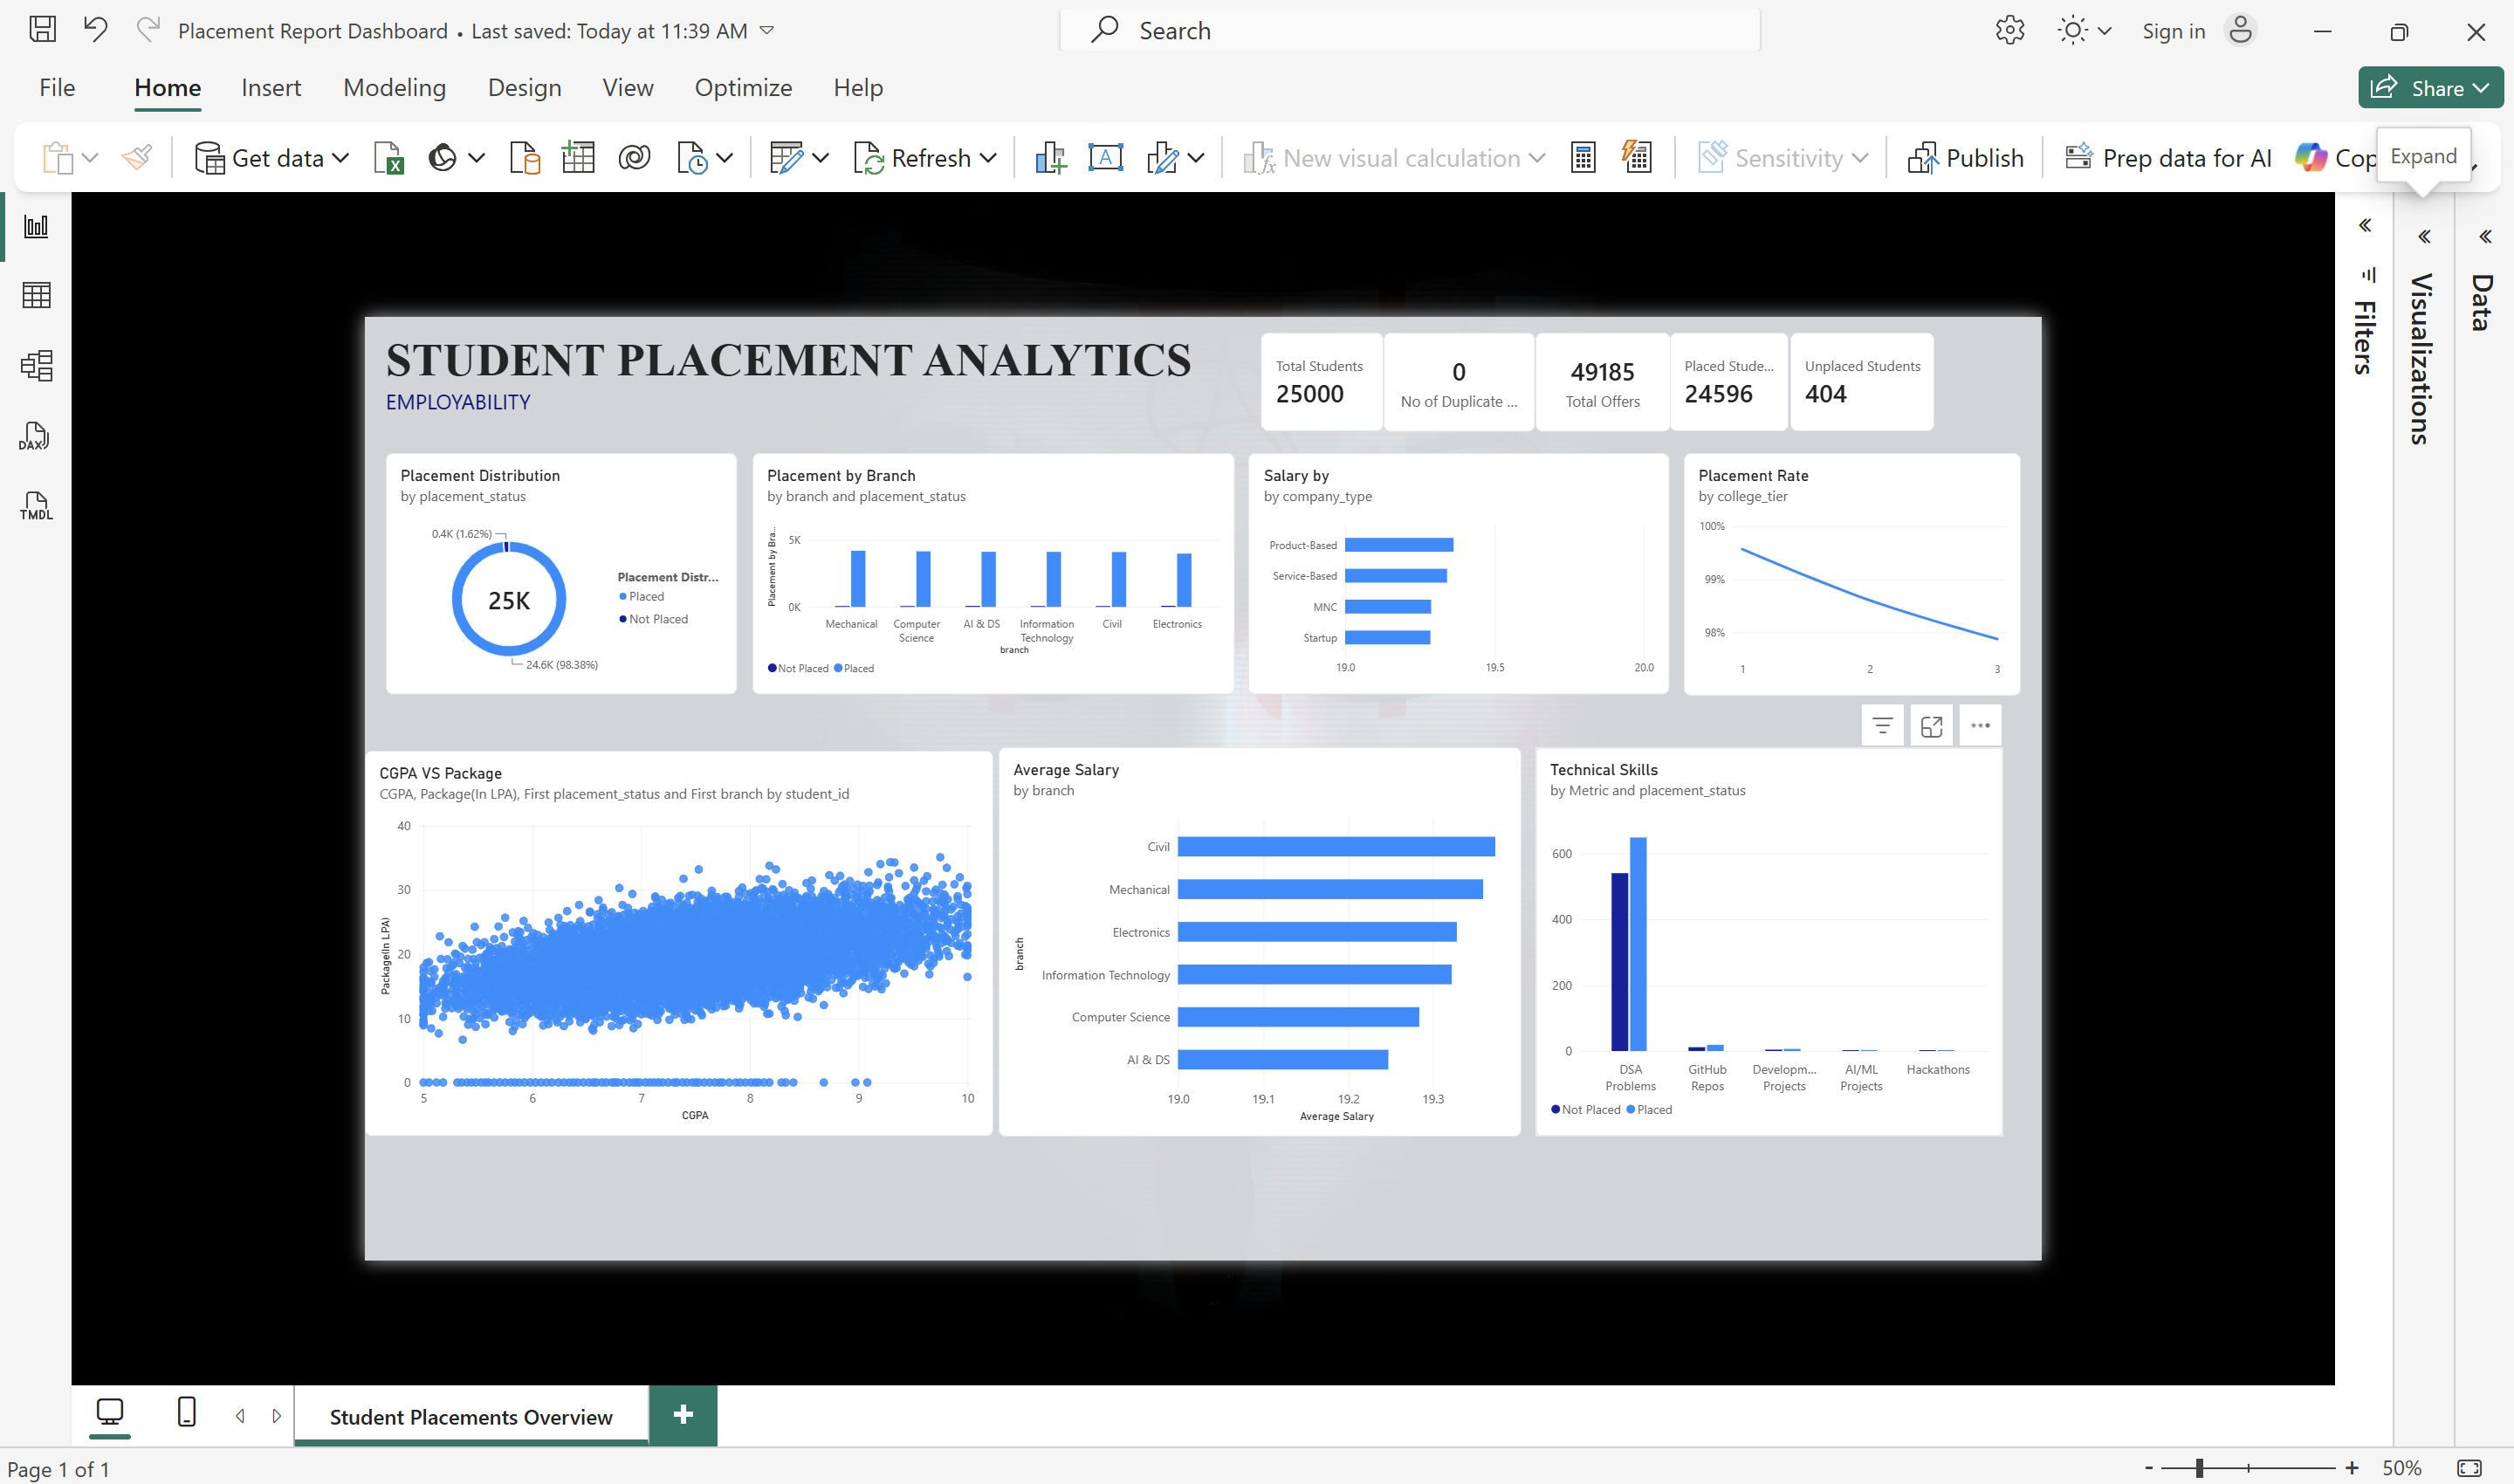

The page's visual inventory and layout, read from the dashboard file:
{"tool":"powerbi","page":{"name":"Student Placements Overview","canvas":[1920,1080],"ordinal":0},"visuals":[{"type":"card","fields":{"Values":["student_placement_career_success_dataset.DuplicateIDs"]},"box":[1165,18.3,173.3,113.3],"z":0,"group":"g1"},{"type":"clusteredBarChart","fields":{"Category":["student_placement_career_success_dataset.branch"],"Y":["student_placement_career_success_dataset.Average Salary"]},"box":[726,492,598,446],"z":0},{"type":"card","fields":{"Values":["student_placement_career_success_dataset.Total Offers"]},"box":[1338.3,18.3,155,113.3],"z":1000,"group":"g1"},{"type":"lineChart","fields":{"Category":["student_placement_career_success_dataset.college_tier"],"Y":["student_placement_career_success_dataset.Placement Rate"]},"box":[1510,156,386,278],"z":1000},{"type":"cardVisual","fields":{"Data":["student_placement_career_success_dataset.Placed Students"]},"box":[1493.3,18.3,136.7,113.3],"z":2000,"group":"g1"},{"type":"clusteredBarChart","fields":{"Category":["student_placement_career_success_dataset.company_type"],"Y":["student_placement_career_success_dataset.Average Salary"]},"box":[1012,156,481.2,276.2],"z":2000},{"type":"group","id":"g1","title":"Group 1","box":[1025,18.3,770,113.3],"z":3000},{"type":"cardVisual","fields":{"Data":["student_placement_career_success_dataset.Unplaced Students"]},"box":[1630,18.3,165,113.3],"z":3000,"group":"g1"},{"type":"textbox","box":[23.3,18.3,936.7,113.3],"z":4000},{"type":"cardVisual","fields":{"Data":["student_placement_career_success_dataset.Total Students"]},"box":[1025,18.3,140,113.3],"z":4000,"group":"g1"},{"type":"donutChart","fields":{"Category":["student_placement_career_success_dataset.placement_status"],"Y":["CountNonNull(student_placement_career_success_dataset.placement_status)"]},"box":[23.8,156.2,402.5,276.2],"z":5000},{"type":"clusteredColumnChart","fields":{"Category":["student_placement_career_success_dataset.branch"],"Series":["student_placement_career_success_dataset.placement_status"],"Y":["CountNonNull(student_placement_career_success_dataset.student_id)"]},"box":[443.8,156.2,552.5,276.2],"z":6000},{"type":"scatterChart","title":"CGPA VS Package","fields":{"Category":["student_placement_career_success_dataset.student_id"],"X":["Sum(student_placement_career_success_dataset.cgpa)"],"Y":["Sum(student_placement_career_success_dataset.salary_lpa)"]},"box":[0,495,720,441.2],"z":7000},{"type":"clusteredColumnChart","fields":{"Category":["Technical Metrics.Metric"],"Series":["student_placement_career_success_dataset.placement_status"],"Y":["student_placement_career_success_dataset.Technical Skills"]},"box":[1340,492,536,446],"z":8000}]}

Visuals, with their boxes on the page's 1920x1080 design canvas (x1, y1, x2, y2). These are canvas units, not pixel positions in the 2514x1484 screenshot, which may show the page scaled, cropped or inside an application window:
card - student_placement_career_success_dataset.DuplicateIDs: {"x1": 1165, "y1": 18, "x2": 1338, "y2": 132}
clusteredBarChart - student_placement_career_success_dataset.branch x student_placement_career_success_dataset.Average Salary: {"x1": 726, "y1": 492, "x2": 1324, "y2": 938}
card - student_placement_career_success_dataset.Total Offers: {"x1": 1338, "y1": 18, "x2": 1493, "y2": 132}
lineChart - student_placement_career_success_dataset.college_tier x student_placement_career_success_dataset.Placement Rate: {"x1": 1510, "y1": 156, "x2": 1896, "y2": 434}
cardVisual - student_placement_career_success_dataset.Placed Students: {"x1": 1493, "y1": 18, "x2": 1630, "y2": 132}
clusteredBarChart - student_placement_career_success_dataset.company_type x student_placement_career_success_dataset.Average Salary: {"x1": 1012, "y1": 156, "x2": 1493, "y2": 432}
"Group 1" group: {"x1": 1025, "y1": 18, "x2": 1795, "y2": 132}
cardVisual - student_placement_career_success_dataset.Unplaced Students: {"x1": 1630, "y1": 18, "x2": 1795, "y2": 132}
textbox: {"x1": 23, "y1": 18, "x2": 960, "y2": 132}
cardVisual - student_placement_career_success_dataset.Total Students: {"x1": 1025, "y1": 18, "x2": 1165, "y2": 132}
donutChart - student_placement_career_success_dataset.placement_status x CountNonNull(student_placement_career_success_dataset.placement_status): {"x1": 24, "y1": 156, "x2": 426, "y2": 432}
clusteredColumnChart - student_placement_career_success_dataset.branch x student_placement_career_success_dataset.placement_status: {"x1": 444, "y1": 156, "x2": 996, "y2": 432}
"CGPA VS Package" scatterChart: {"x1": 0, "y1": 495, "x2": 720, "y2": 936}
clusteredColumnChart - Technical Metrics.Metric x student_placement_career_success_dataset.placement_status: {"x1": 1340, "y1": 492, "x2": 1876, "y2": 938}
